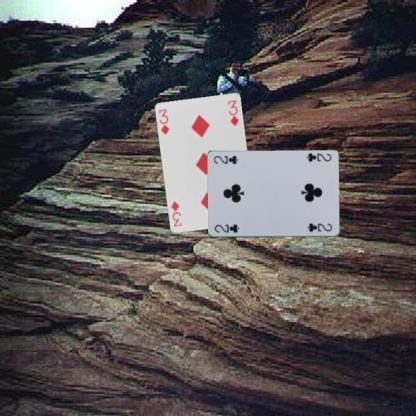2c: (303, 151, 332, 163), (212, 222, 240, 234)
3d: (156, 107, 170, 136)
